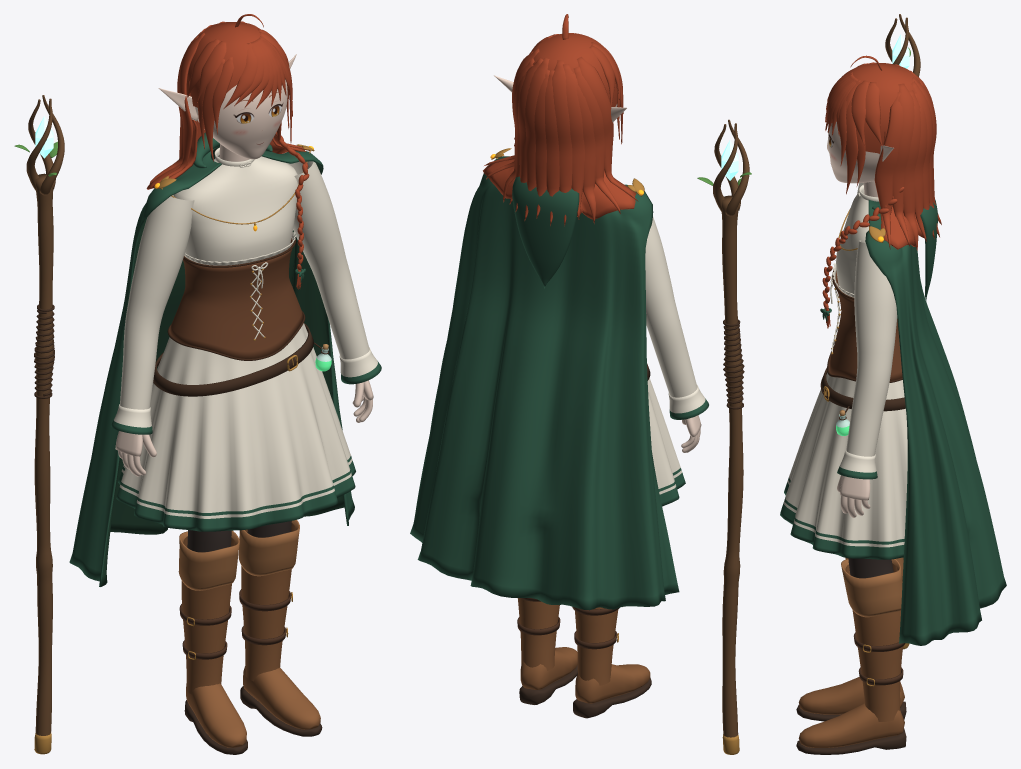
Rendered from elf_mage_lite.glb.
The picture shows the model from 3 angles, left to right: view 1: azimuth 30°, elevation 25°; view 2: azimuth 150°, elevation 25°; view 3: azimuth 270°, elevation 25°; orthographic projection. The views are drawn at different scales.
Visible parts, largest first — view 1: Skirt, Cape, Corset, Staff_Wood, Blouse_Torso, Sleeve.R, Hair, Sleeve.L, Boot.L, Boot.R, Head, Boot_Cuff.R (+16 smaller); view 2: Cape, Hair, Staff_Wood, Sleeve.R, Hood, Boot.R, Boot.L, Skirt, Hair_Cap, Hair_Back, Staff_Grip, Boot_Sole.R (+3 smaller); view 3: Cape, Skirt, Hair, Sleeve.L, Boot.L, Boot_Cuff.L, Hair_Cap, Corset, Boot.R, Blouse_Torso, Head, Hand.L (+9 smaller).
Part boxes in pixels (<box>): Skirt: <box>116,323,355,531</box>; Cape: <box>69,146,354,586</box>; Corset: <box>169,238,303,358</box>; Staff_Wood: <box>26,95,64,735</box>; Blouse_Torso: <box>173,155,297,261</box>; Sleeve.R: <box>120,195,194,409</box>; Hair: <box>149,14,309,187</box>; Sleeve.L: <box>286,161,369,359</box>; Boot.L: <box>241,523,320,729</box>; Boot.R: <box>181,536,246,747</box>; Head: <box>195,79,287,159</box>; Boot_Cuff.R: <box>178,530,239,590</box>; Cape: <box>410,156,679,610</box>; Hair: <box>484,14,638,226</box>; Staff_Wood: <box>713,119,749,737</box>; Sleeve.R: <box>645,217,697,397</box>; Hood: <box>512,176,579,288</box>; Boot.R: <box>575,607,650,703</box>; Boot.L: <box>517,598,577,689</box>; Skirt: <box>647,378,685,506</box>; Hair_Cap: <box>529,33,617,106</box>; Hair_Back: <box>483,159,636,219</box>; Staff_Grip: <box>723,319,744,409</box>; Boot_Sole.R: <box>573,678,651,718</box>; Cape: <box>865,200,1006,645</box>; Skirt: <box>780,372,907,559</box>; Hair: <box>825,55,941,250</box>; Sleeve.L: <box>846,240,897,456</box>; Boot.L: <box>798,563,904,747</box>; Boot_Cuff.L: <box>841,559,902,617</box>; Hair_Cap: <box>841,63,920,153</box>; Corset: <box>829,271,902,380</box>; Boot.R: <box>798,677,904,714</box>; Blouse_Torso: <box>836,193,868,293</box>; Head: <box>827,121,879,183</box>; Hand.L: <box>837,475,870,517</box>.
Size of the model in its own units: 0.8059 by 1.56 by 0.4721.
26 materials, 1 textured.
